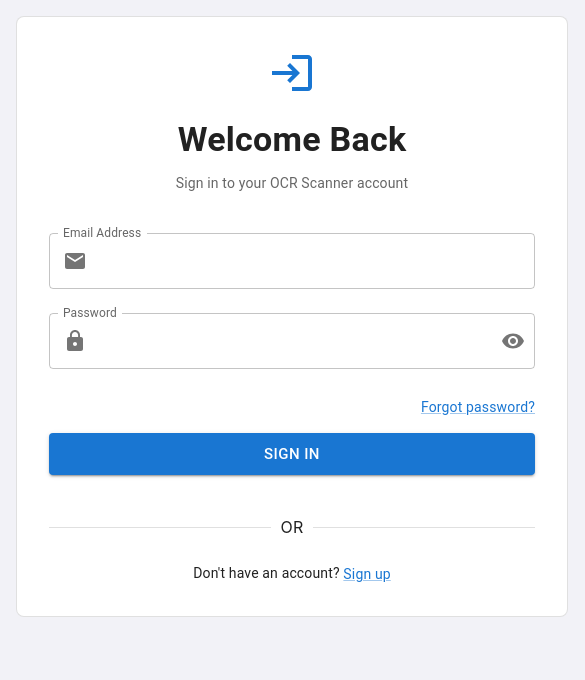
Test: LoginForm › form validation › shows "Email is required" error when email is empty on submit
The width and height of the screenshot is (585, 680).
Click the button "Sign In".
click(292, 454)  # box 49,433 -> 535,475
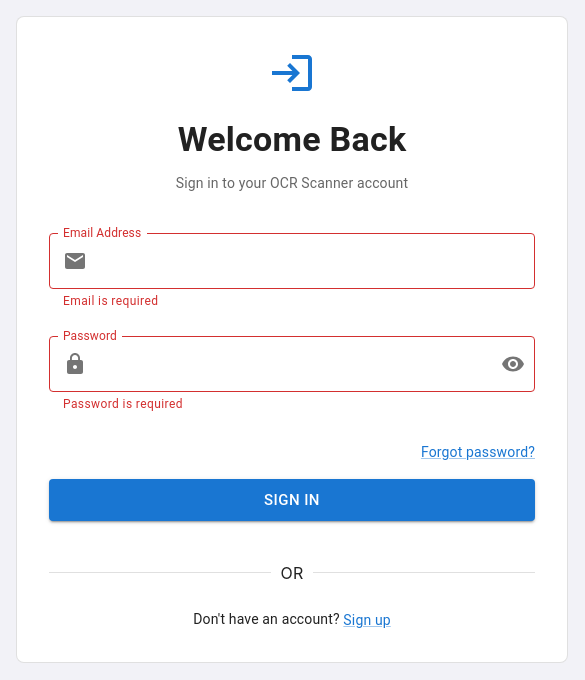
Expected: the text "Email is required" is shown, 63,294 -> 158,308
